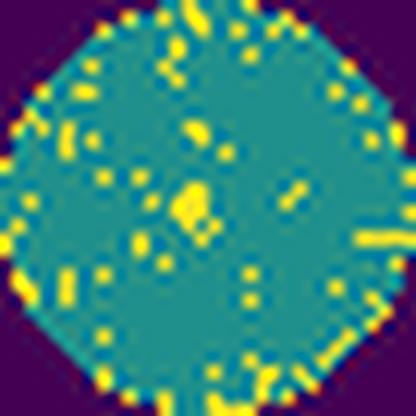Center: (166, 180, 229, 246)
